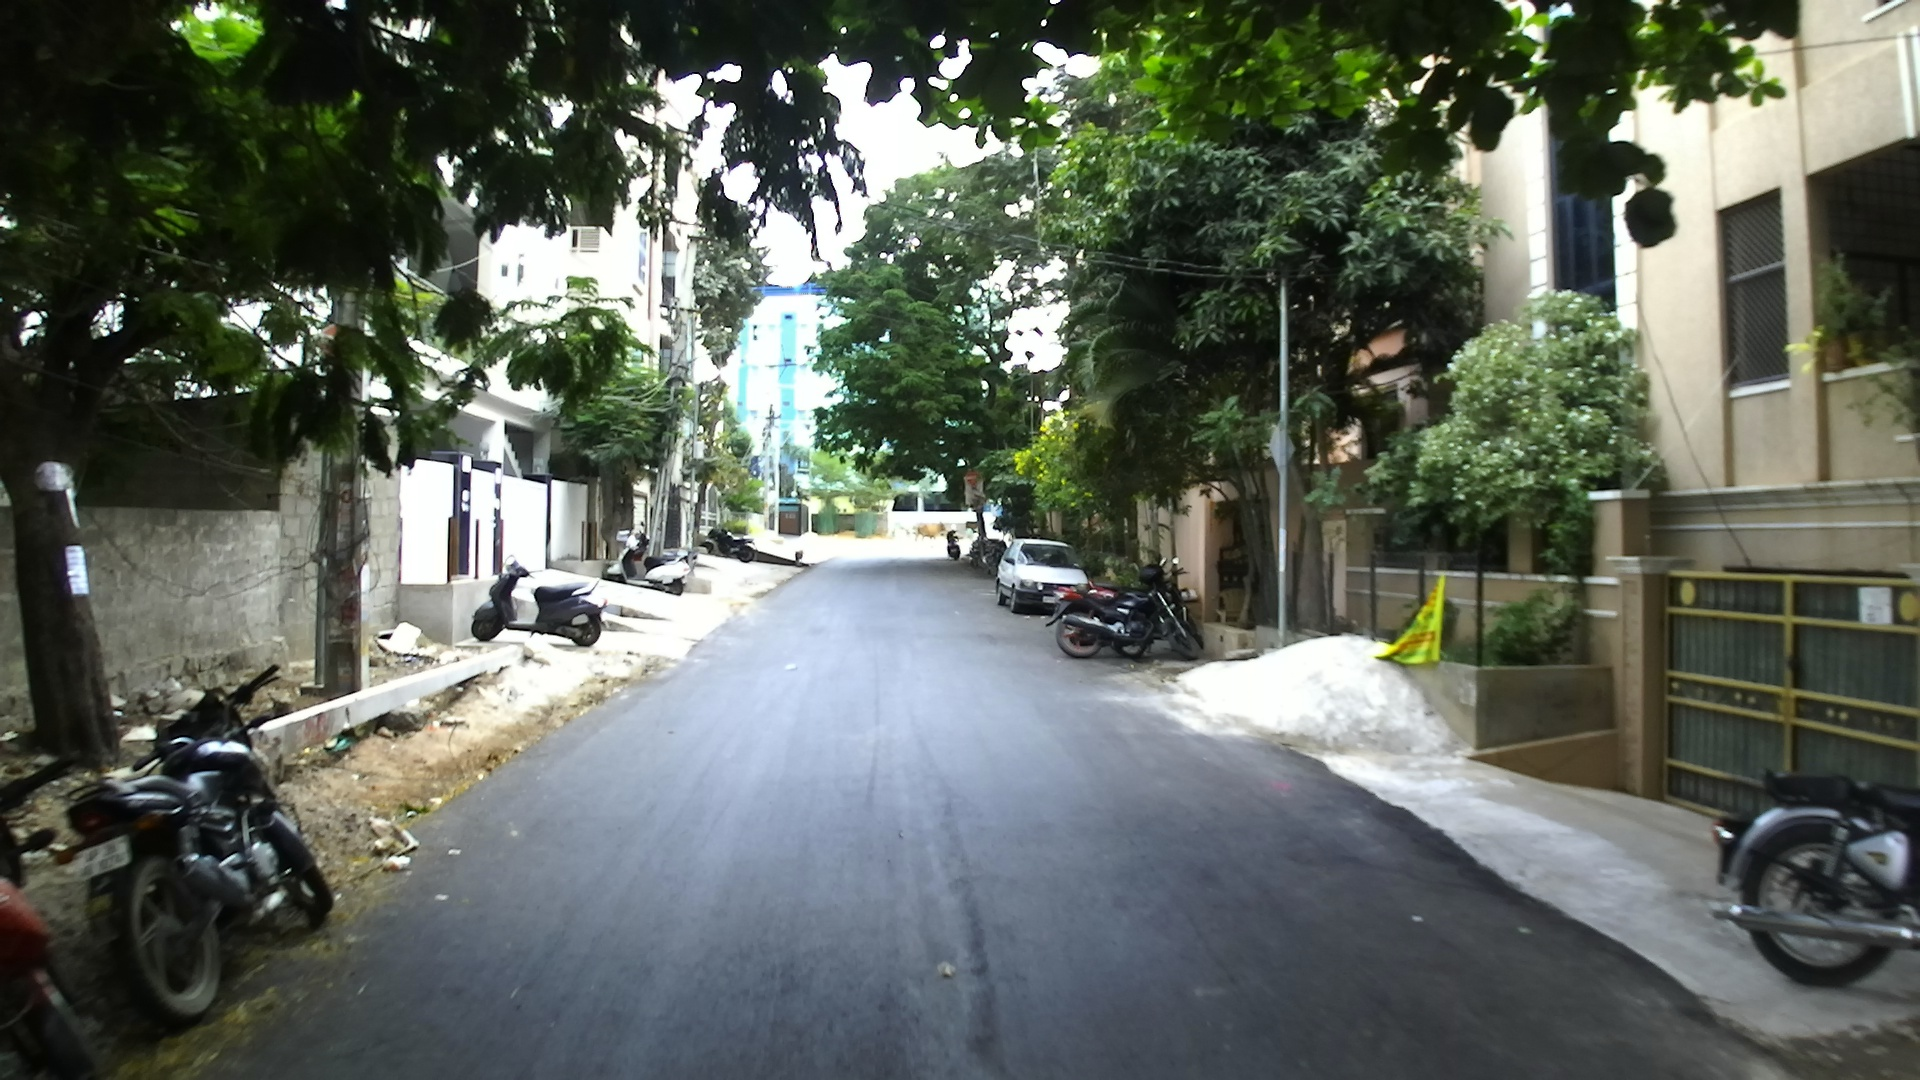vehicle: (55, 657, 336, 1029), (1710, 770, 1919, 988), (0, 771, 104, 1073), (1055, 583, 1203, 662), (468, 564, 608, 647), (996, 538, 1089, 617), (611, 538, 696, 593), (625, 549, 696, 592)
